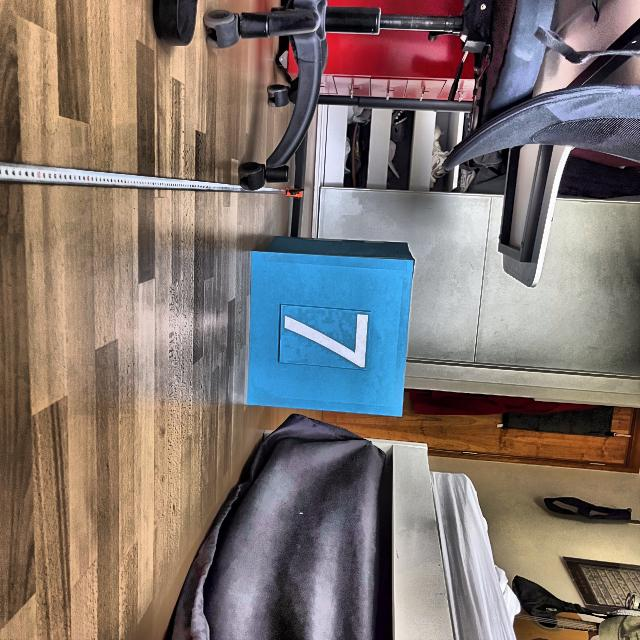blue box: (245, 232, 416, 420)
seven: (282, 308, 374, 370)
